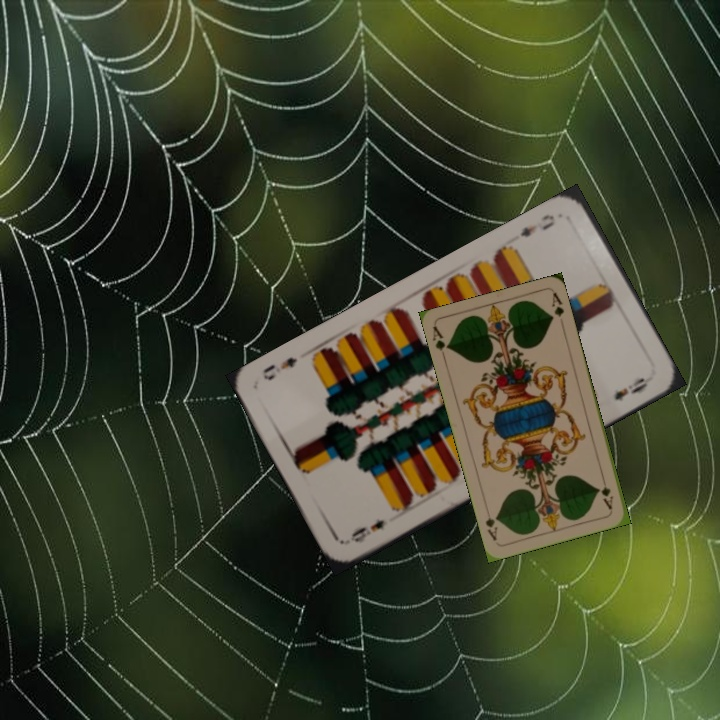E9: (516, 210, 558, 240), (346, 515, 387, 545)
GA: (429, 323, 452, 363), (597, 482, 616, 512)
